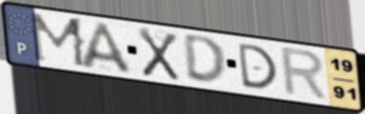A: (78, 20, 137, 77)
D: (181, 34, 230, 87), (235, 41, 280, 91)
M: (29, 11, 89, 71)
R: (279, 45, 331, 103)
X: (136, 25, 181, 83)
